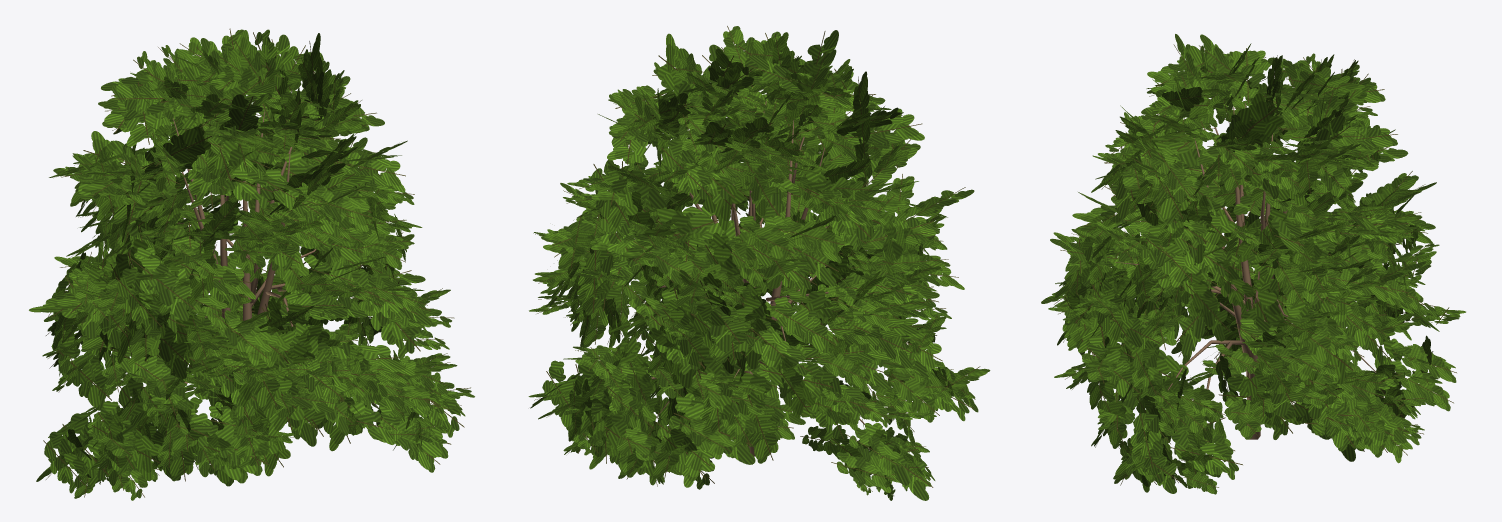
Rendered from near.glb.
The picture shows the model from 3 angles, left to right: view 1: azimuth 30°, elevation 25°; view 2: azimuth 150°, elevation 25°; view 3: azimuth 270°, elevation 25°; orthographic projection. The views are drawn at different scales.
Parts seen in each view (by area): view 1: foliage, bark; view 2: foliage, bark; view 3: foliage, bark.
Part boxes in pixels (<box>): foliage: <box>29,28,474,500</box>; bark: <box>166,111,377,419</box>; foliage: <box>528,26,990,500</box>; bark: <box>634,100,864,456</box>; foliage: <box>1041,34,1465,494</box>; bark: <box>1115,103,1376,439</box>.
Bounding box in the file's own units: 12.22 × 11.66 × 12.16.
Materials: 2 (1 with a texture image).
